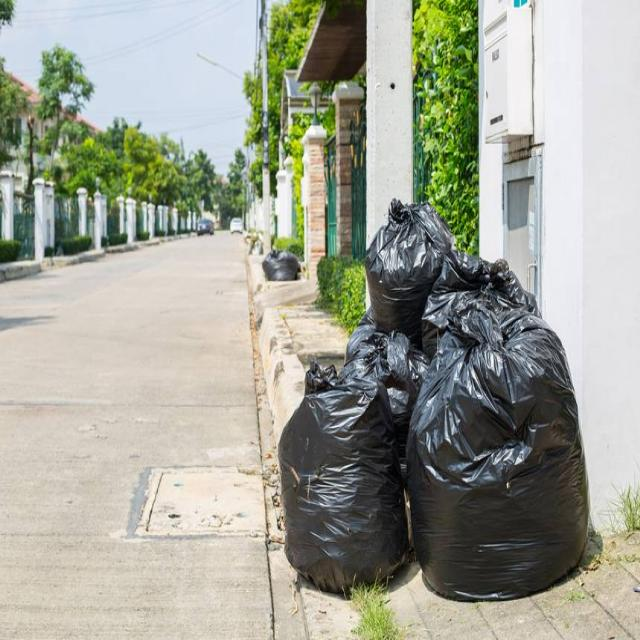plastic_bag: (409, 328, 595, 601), (285, 364, 402, 574), (415, 260, 532, 343), (374, 216, 453, 299)
